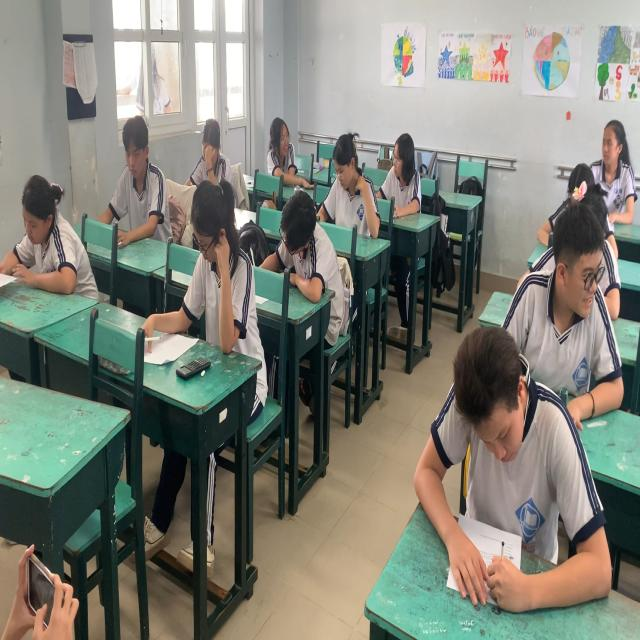cheating: (502, 190, 622, 352), (98, 108, 180, 266), (367, 117, 429, 226), (249, 85, 305, 185)
not_cheating: (404, 288, 609, 592), (177, 145, 260, 392), (1, 101, 86, 283), (542, 119, 628, 284), (261, 174, 346, 340), (563, 99, 640, 243), (314, 95, 380, 251), (180, 98, 229, 194)
